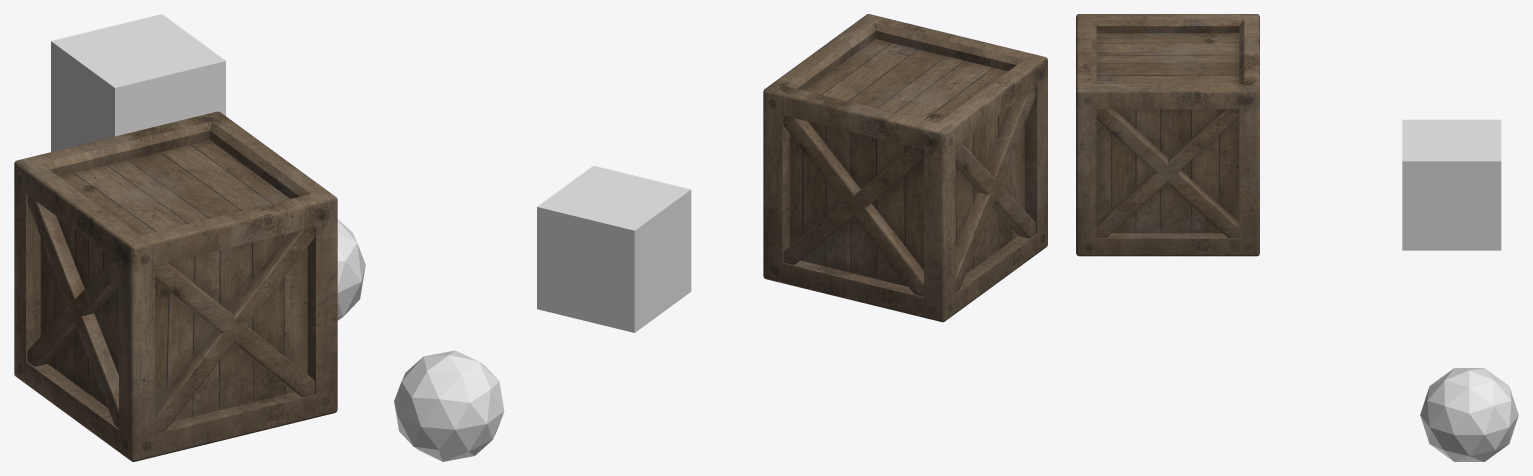
File: wooden crate.glb
The picture shows the model from 3 angles, left to right: view 1: azimuth 30°, elevation 25°; view 2: azimuth 150°, elevation 25°; view 3: azimuth 270°, elevation 25°; orthographic projection. The views are drawn at different scales.
Parts seen in each view (by area): view 1: crate, Cube, Icosphere; view 2: crate, Cube, Icosphere; view 3: crate, Cube, Icosphere.
Boxes of the visible parts, bbox=[...] form: crate: bbox=[14, 111, 337, 461]; Cube: bbox=[51, 14, 225, 151]; Icosphere: bbox=[337, 219, 365, 320]; crate: bbox=[763, 14, 1047, 322]; Cube: bbox=[537, 165, 691, 332]; Icosphere: bbox=[394, 350, 504, 461]; crate: bbox=[1076, 14, 1259, 256]; Cube: bbox=[1402, 119, 1501, 250]; Icosphere: bbox=[1420, 368, 1518, 461].
Size of the model in its own units: 8.63 by 6.41 by 8.97.
Materials: 1 (1 with a texture image).
